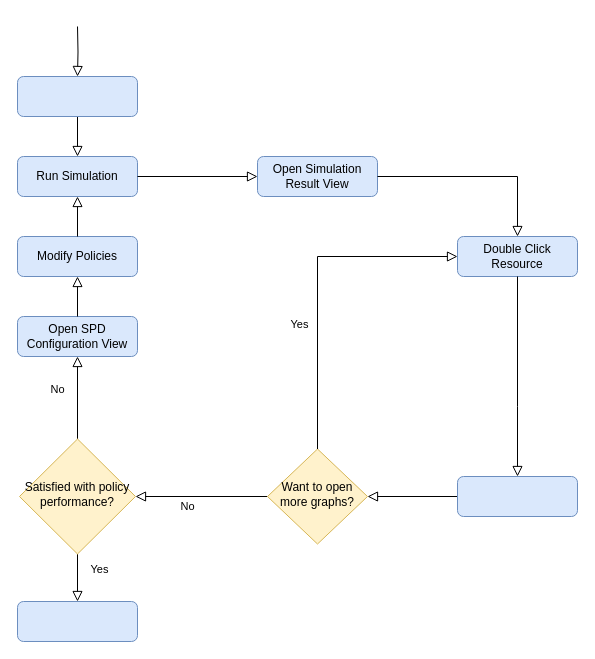
Image size: 595x659. Some labels were removed from this diagram. Each missing label, with the centre of its shape:
"Analyze Graph" belongs at [517,496].
"Create Policies" belongs at [77,96].
"Finished" belongs at [77,621].
